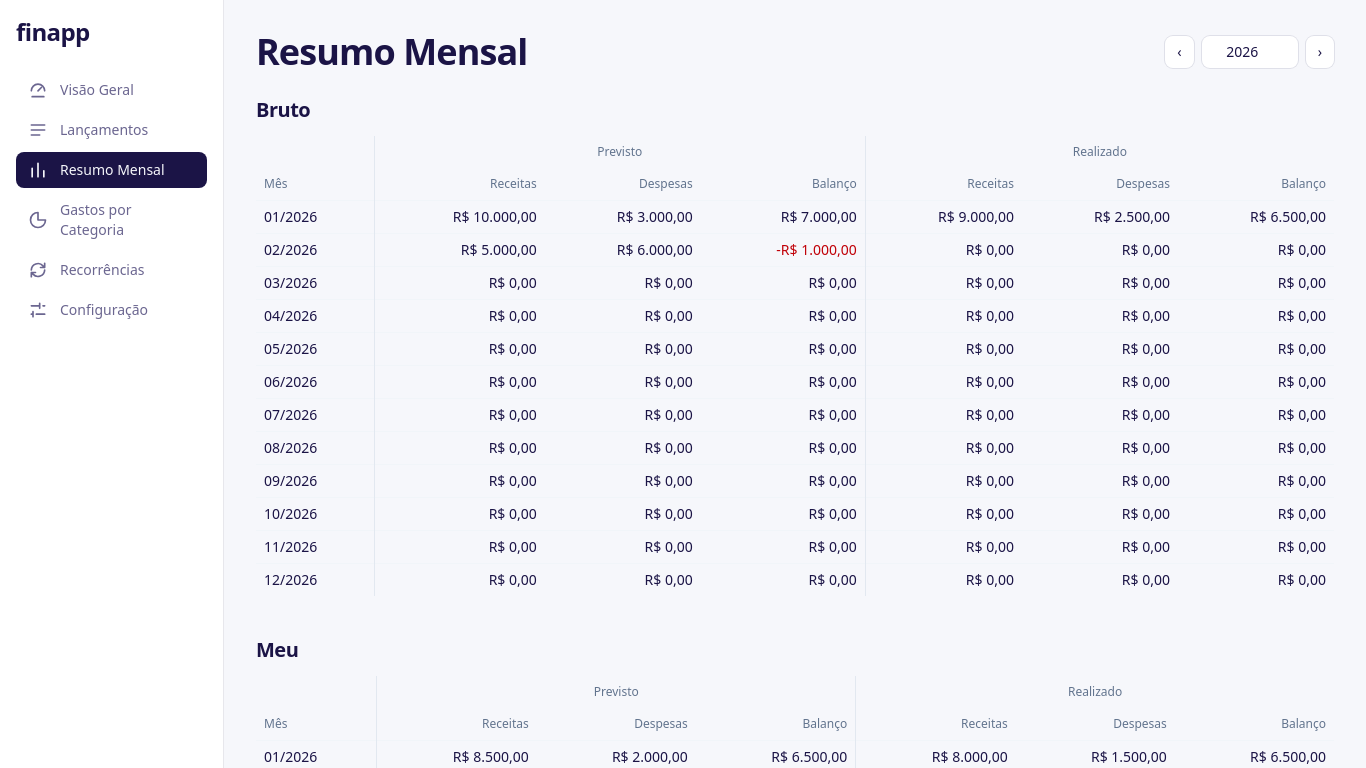
Test: Year input › keeps the tables on screen while the next year loads
The image size is (1366, 768).
expect the heading "Resumo Mensal" is shown: met, box top-left (256, 32), bottom-right (527, 72)
Click the button named "Próximo ano".
click(1320, 52)  # box top-left (1306, 36), bottom-right (1334, 68)
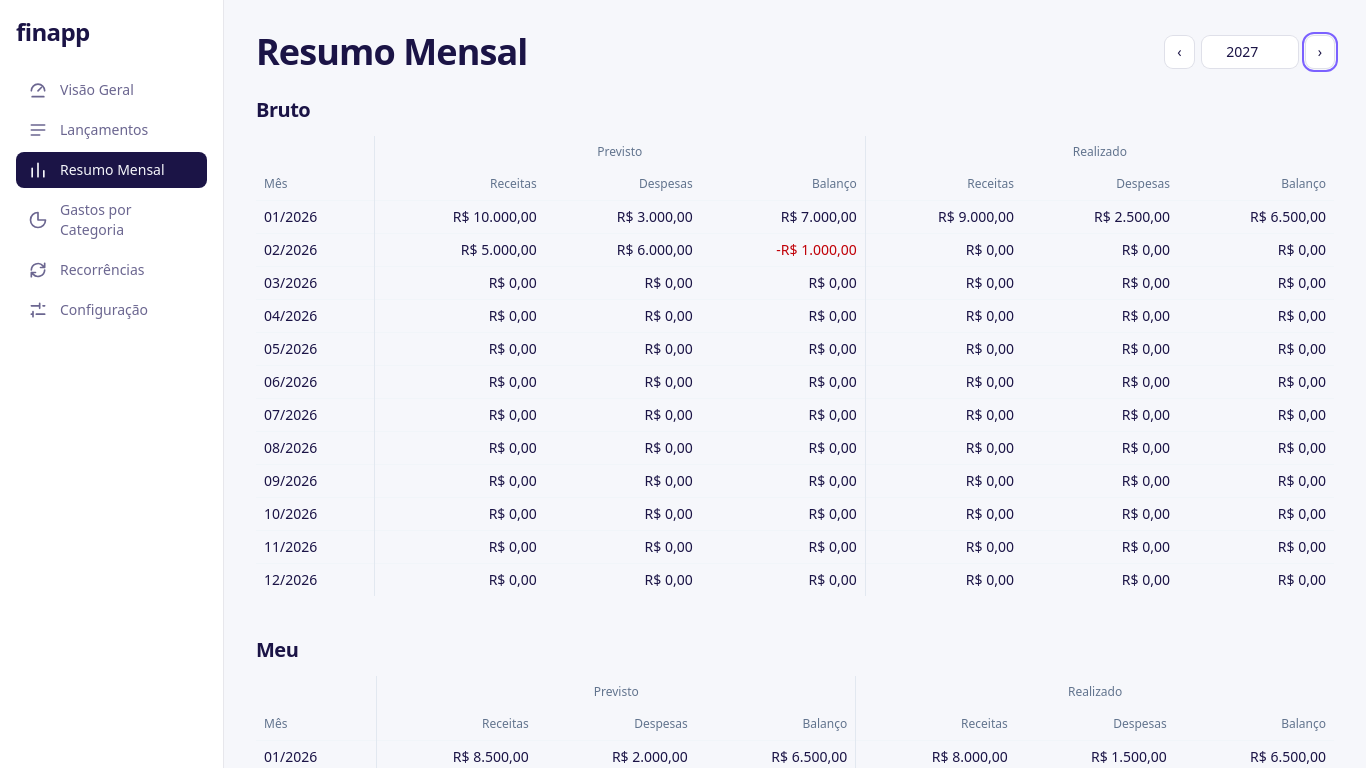
expect the number field named "Ano" holds "2027": met, box top-left (1202, 36), bottom-right (1298, 68)
